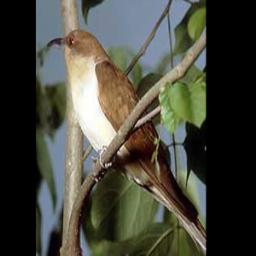Cuckoo: (45, 26, 205, 253)
